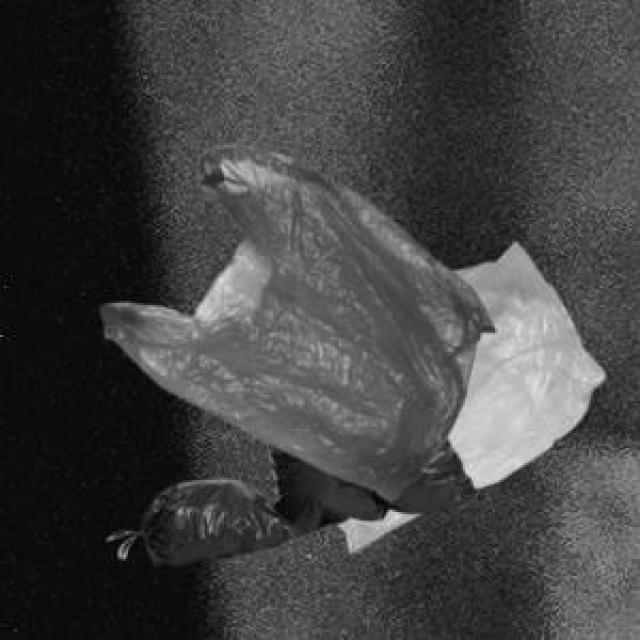miscellaneous trash: (137, 435, 484, 563)
